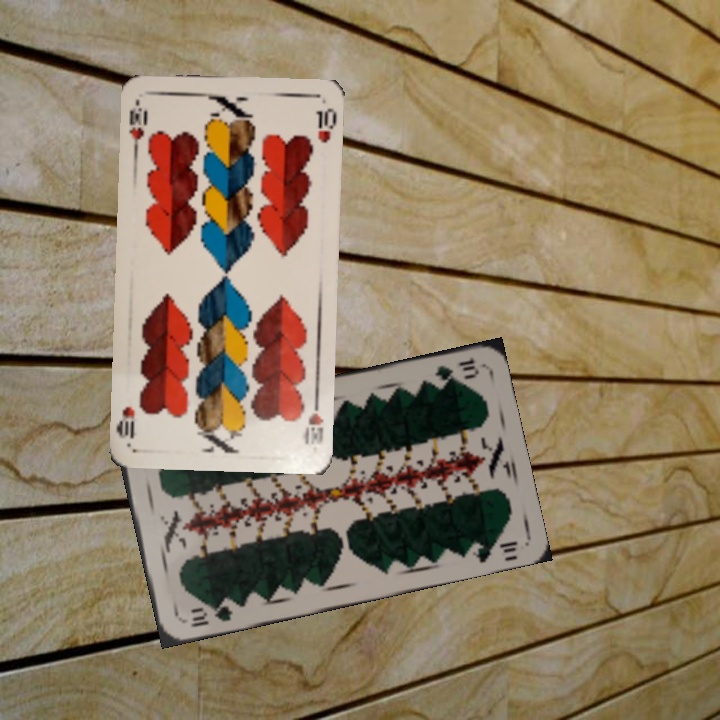G10: (186, 596, 238, 630), (430, 354, 482, 385)
H10: (300, 391, 327, 448), (124, 95, 150, 154)
